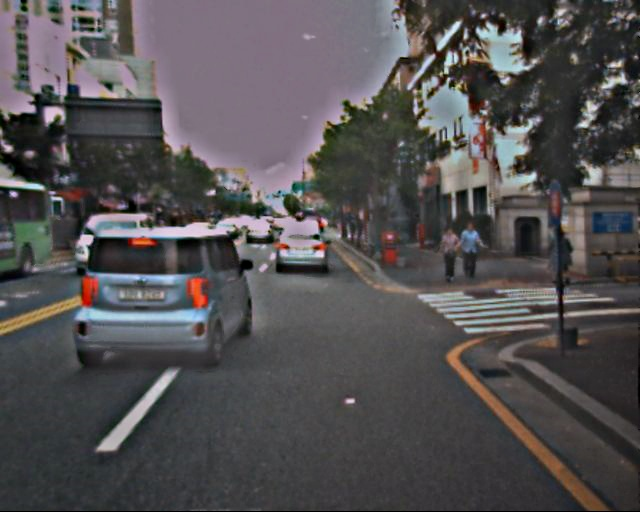person: (548, 224, 575, 290), (457, 221, 483, 284), (438, 226, 463, 287)
